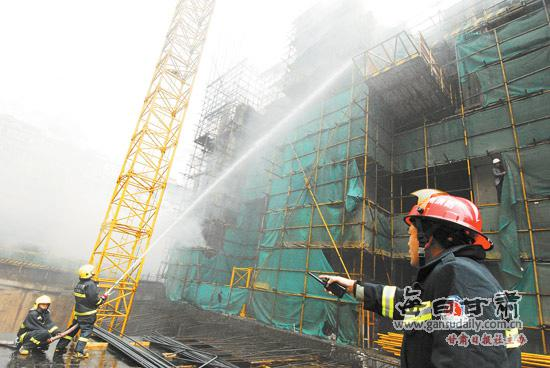helmet: (400, 182, 492, 271), (76, 260, 99, 284), (32, 292, 52, 311)
